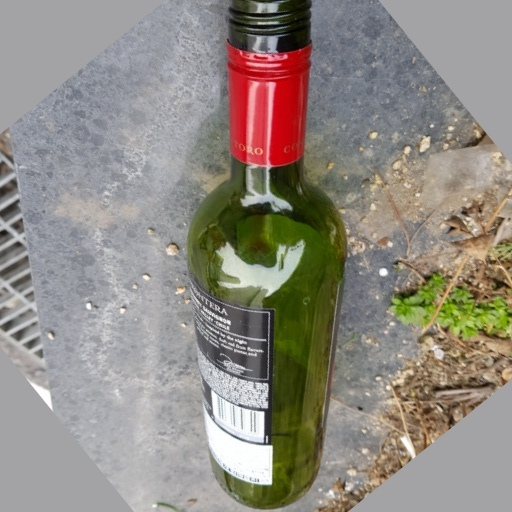Glass_2: (188, 2, 347, 512)
